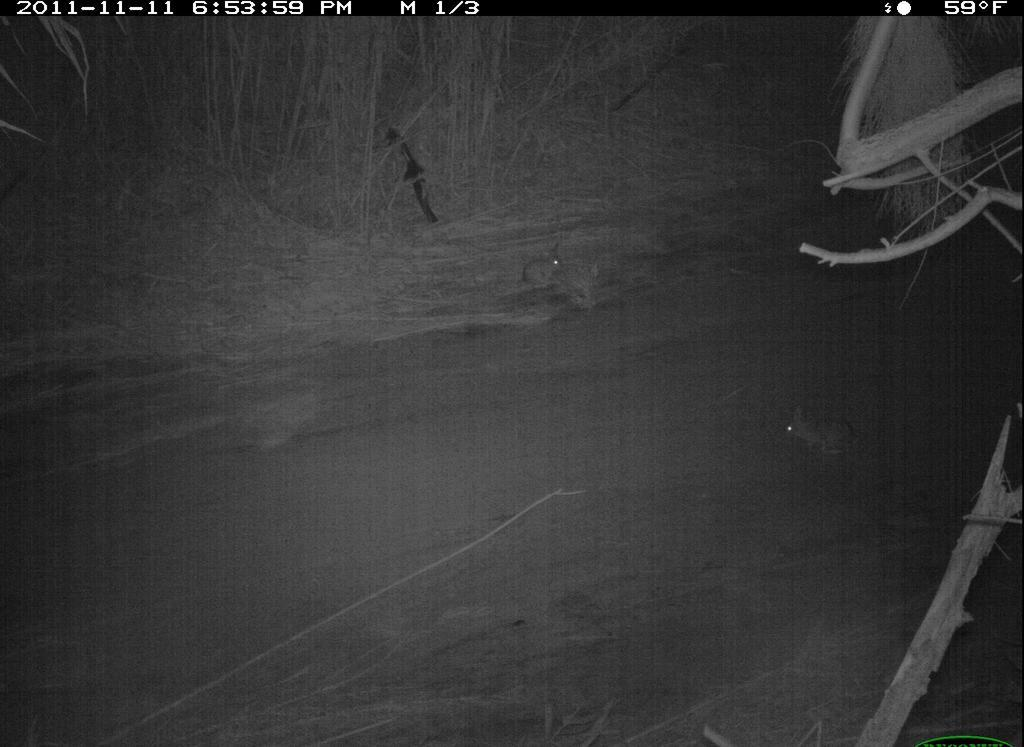rabbit: (780, 392, 866, 463), (521, 236, 571, 295)
